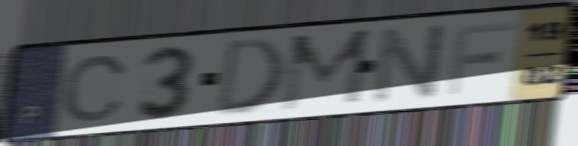3: (136, 43, 196, 123)
C: (58, 53, 131, 124)
D: (212, 33, 289, 120)
F: (443, 18, 517, 97)
M: (278, 26, 373, 115)
N: (368, 21, 450, 108)
